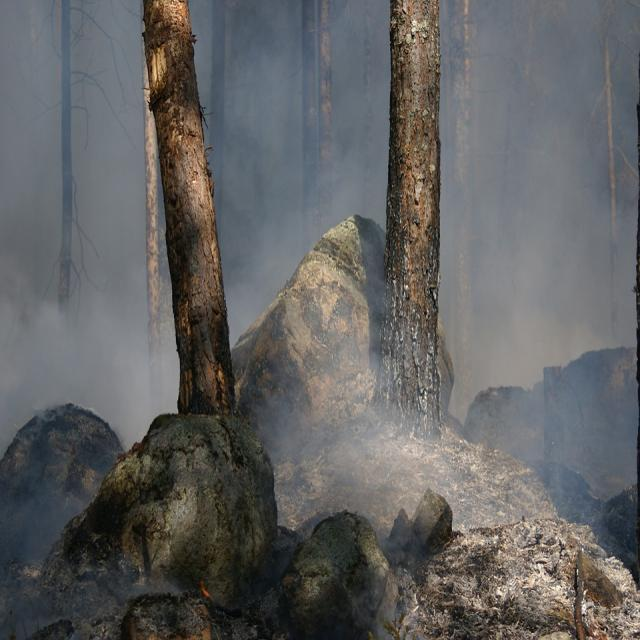Smoke: (448, 4, 622, 486), (2, 15, 171, 421), (252, 269, 432, 512), (208, 14, 368, 216)
